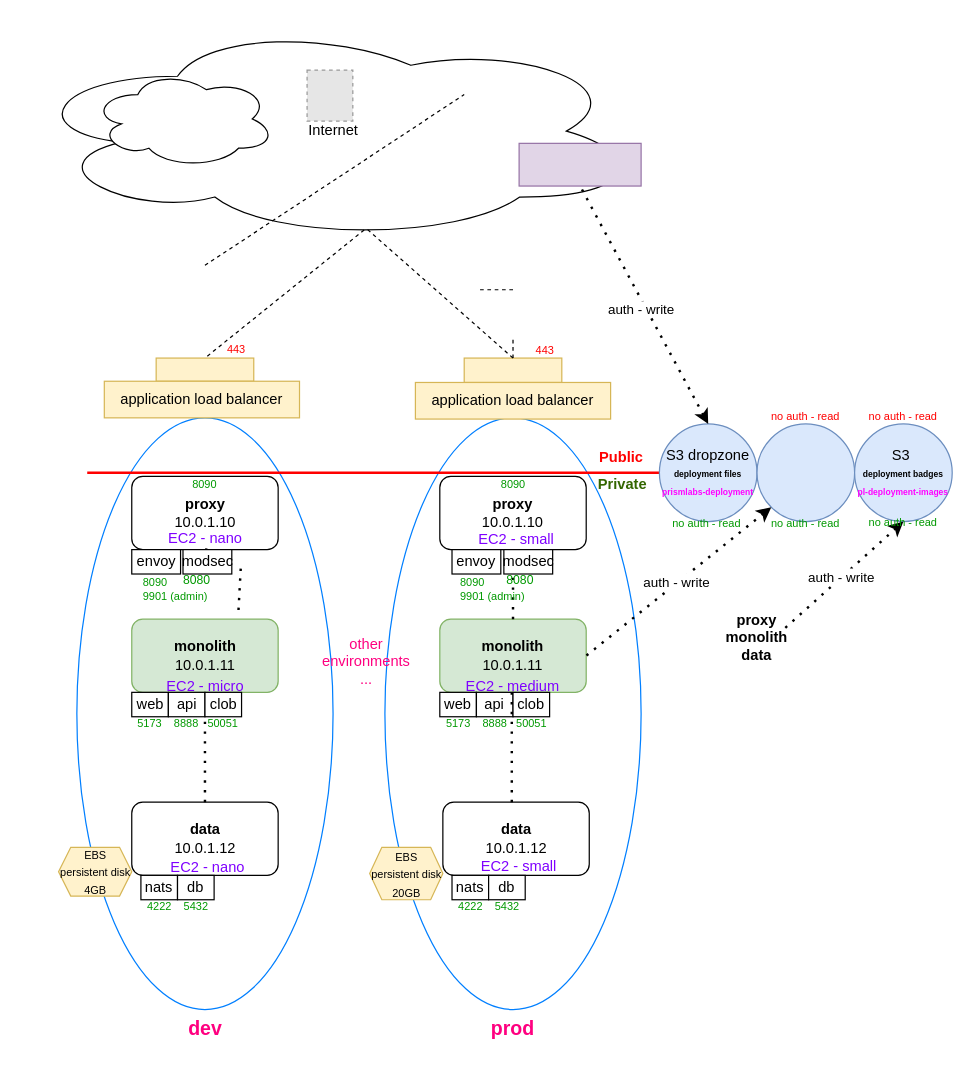
Image size: 974x1068. Some labels were removed from this diagram. Grey dashed boxes stand in for pictures. Here are the shapes that lost their labels. From the top down, the centre of each, then its label:
At point (183, 118): "Hedera".
At point (579, 164): "github github Actions".
At point (204, 369): "dev.prism.market".
At point (512, 369): "prism.market".
At point (805, 472): "S3 uploaded files prismlabs-images".
